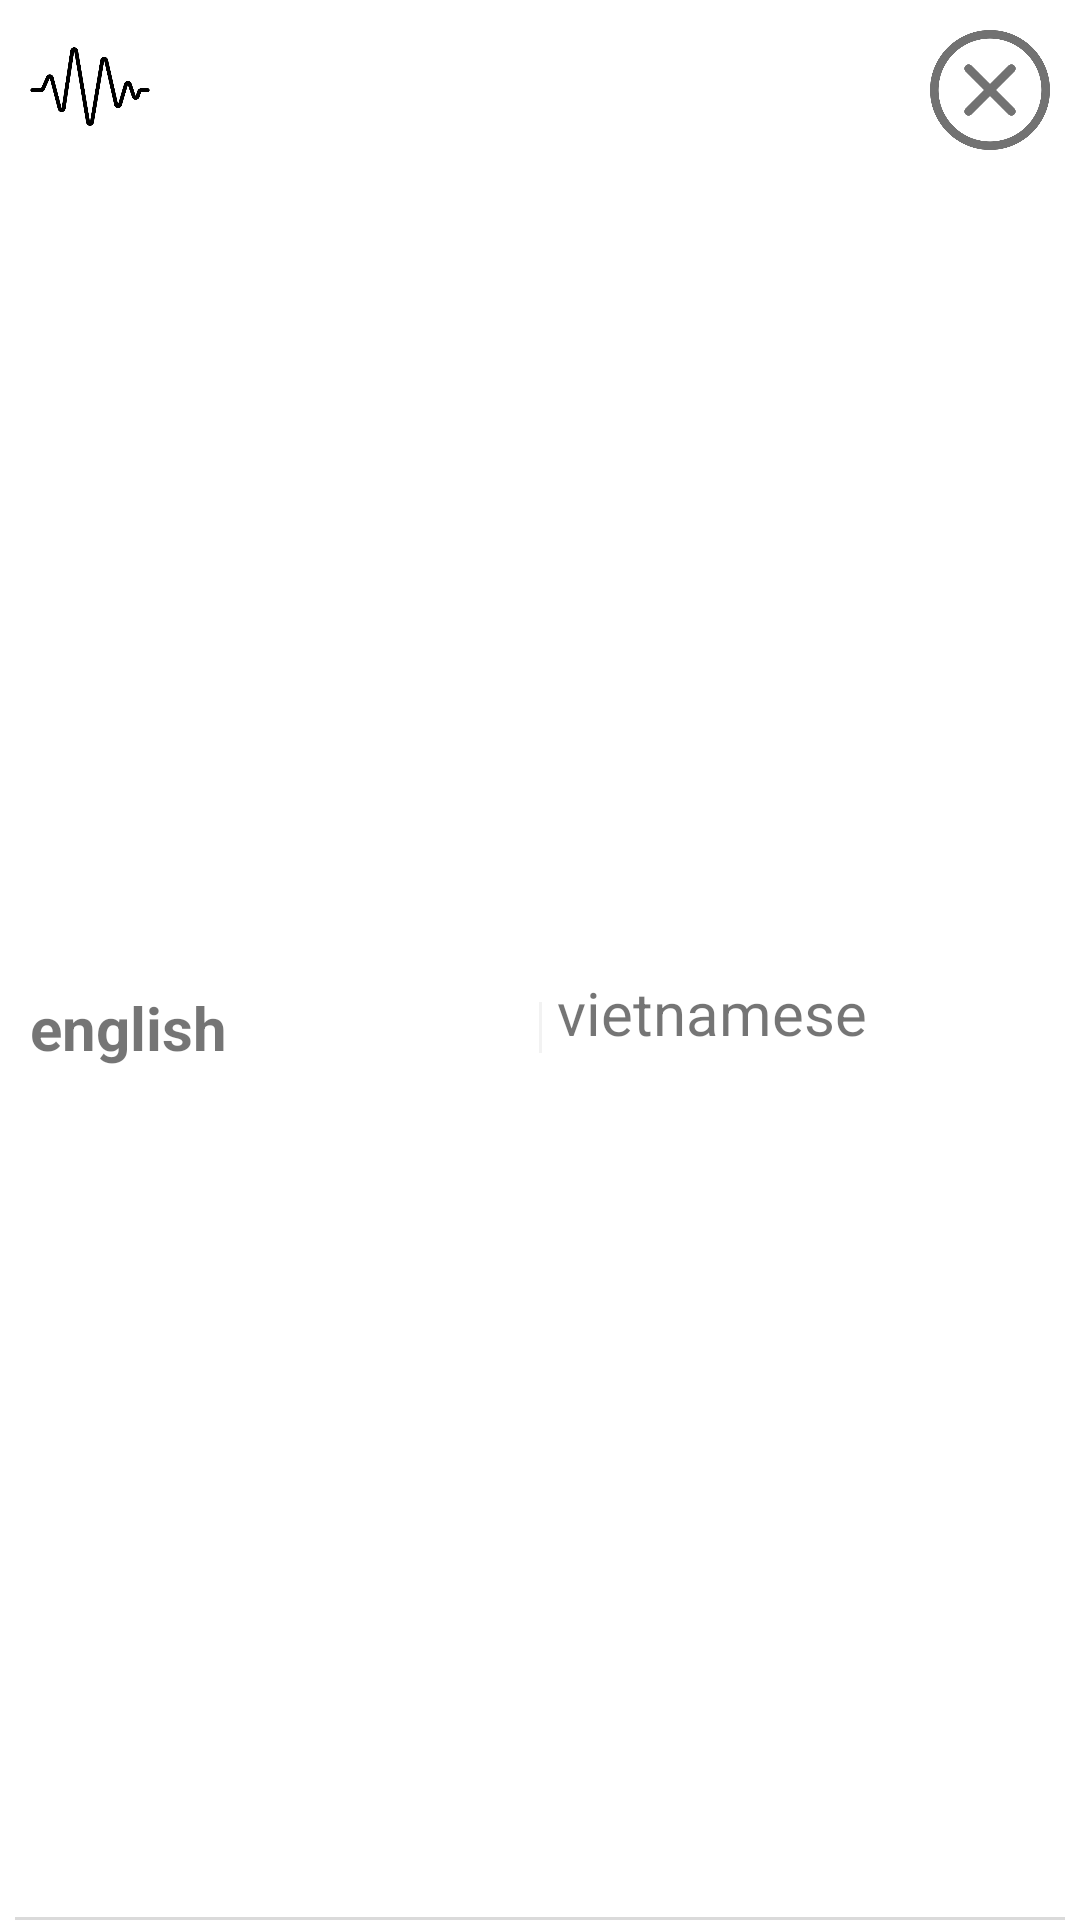

Icon click points for this 1080px×1920px phone screenshot, format point (x, y):
delete: point (990, 90)
sound waves: point (90, 86)
